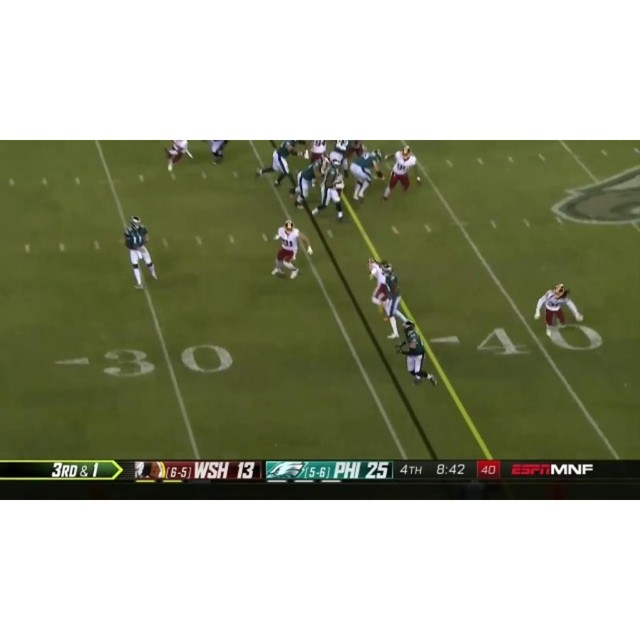american-football-player: (534, 282, 582, 345), (367, 259, 401, 340), (397, 321, 437, 387), (123, 216, 158, 289), (311, 159, 347, 220), (271, 220, 308, 279), (256, 140, 300, 188), (381, 145, 418, 202), (349, 148, 385, 202), (291, 156, 327, 209), (163, 140, 194, 181), (328, 140, 351, 174), (306, 140, 328, 167), (207, 140, 229, 166)
